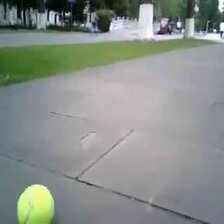tennis: (17, 183, 54, 224)
